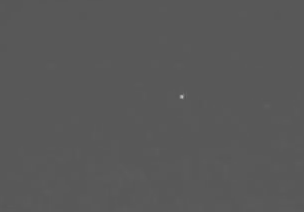Target: (180, 96, 183, 99)
